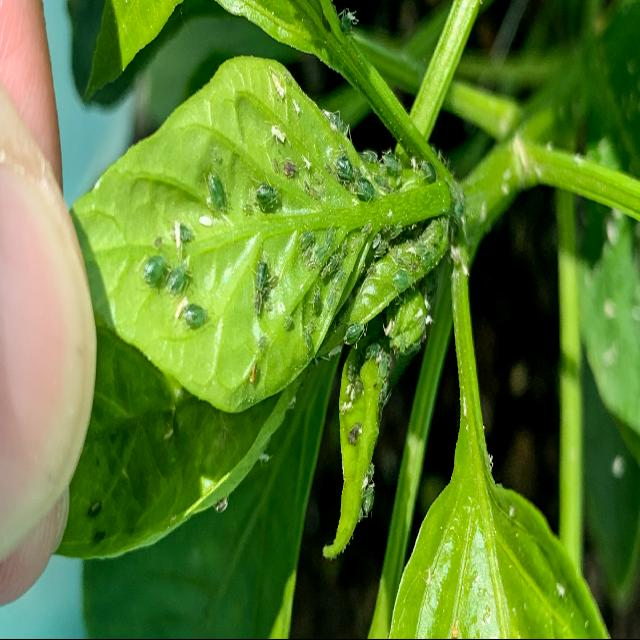Aphid-Grown-: (194, 161, 234, 225), (175, 290, 218, 334), (251, 173, 286, 219)
